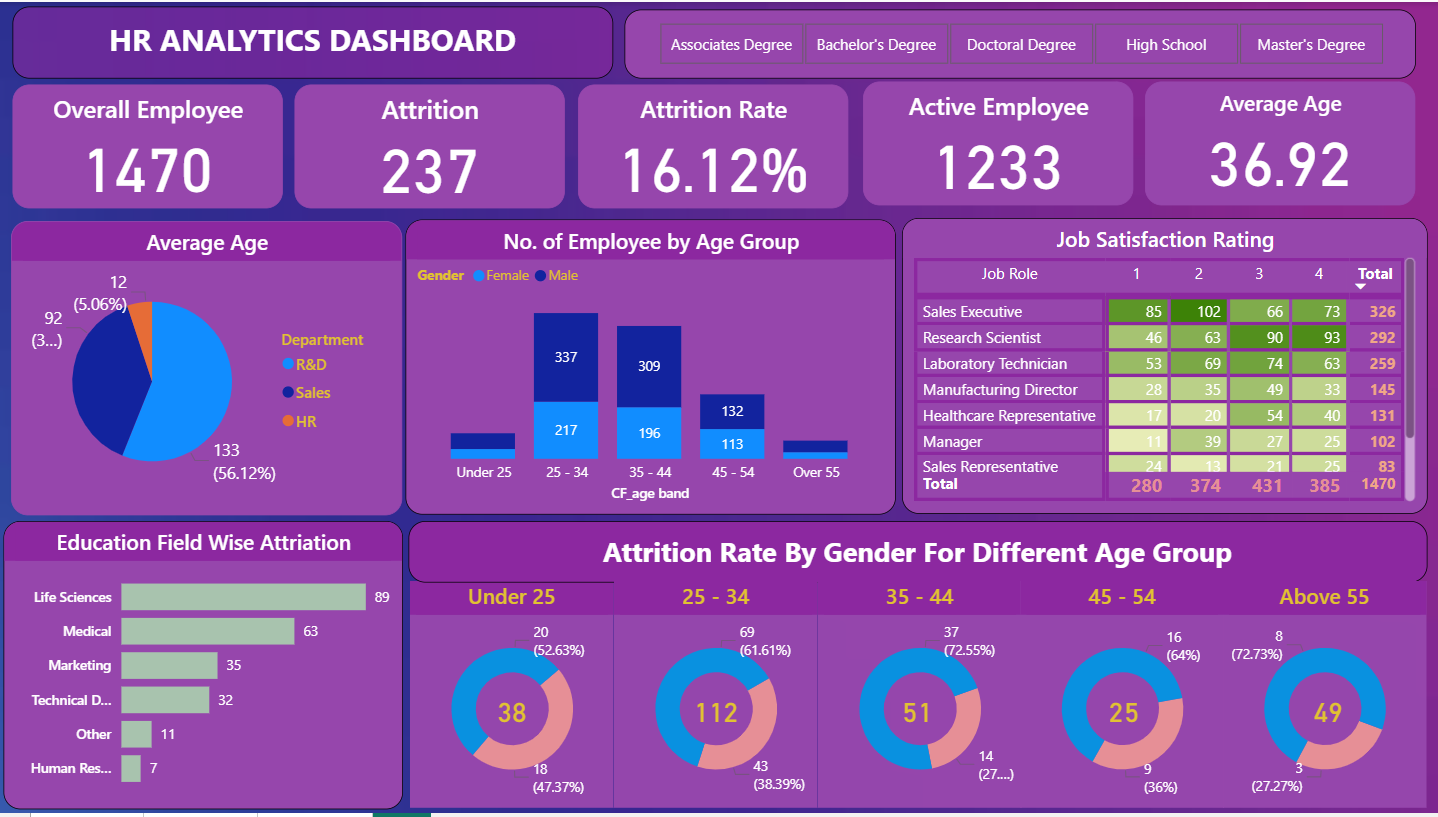

This screenshot's page, from the dashboard's own definition file:
{"tool":"powerbi","page":{"name":"Page 1","canvas":[1280,720],"ordinal":0},"visuals":[{"type":"card","title":"Overall Employee","fields":{"Values":["CountNonNull(Table_1.Employee Count)"]},"box":[11.8,73.5,239.7,110.3],"z":0},{"type":"card","title":"Attrition","fields":{"Values":["Sum(Data.Attition Count)"]},"box":[261.8,73.5,239.7,110.3],"z":1000},{"type":"card","title":"Attrition Rate","fields":{"Values":["Data.Attrition Rate"]},"box":[514.7,73.5,239.7,110.3],"z":2000},{"type":"card","title":"Average Age","fields":{"Values":["Avg(Data.Age)"]},"box":[1017.6,70.6,239.7,110.3],"z":3000},{"type":"card","title":"Active Employee","fields":{"Values":["Data.Active Employee"]},"box":[767.6,70.6,239.7,110.3],"z":4000},{"type":"pieChart","title":"Average Age","fields":{"Category":["Data.Department"],"Y":["Sum(Data.Attition Count)"]},"box":[11.1,194.4,347.2,261.1],"z":5000},{"type":"columnChart","title":"No. of Employee by Age Group","fields":{"Category":["Data.CF_age band"],"Y":["Sum(Data.Employee Count)"],"Series":["Data.Gender"]},"box":[360.8,193.1,435.3,261.8],"z":6000},{"type":"pivotTable","title":"Job Satisfaction Rating","fields":{"Rows":["Data.Job Role"],"Columns":["Data.Job Satisfaction"],"Values":["Sum(Data.Employee Count)"]},"box":[801.4,191.7,466.7,262.5],"z":7000},{"type":"barChart","title":" Education Field Wise Attriation","fields":{"Category":["Data.Education Field"],"Y":["Sum(Data.Attition Count)"]},"box":[4.4,460.3,354.4,255.9],"z":8000},{"type":"donutChart","title":"Under 25","fields":{"Category":["Data.Gender"],"Y":["Sum(Data.Attition Count)"],"Series":["Data.CF_age band"]},"box":[364.7,514.7,180.9,201.5],"z":9000},{"type":"textbox","box":[363.2,460.3,904.4,54.4],"z":10000},{"type":"donutChart","title":"25 - 34","fields":{"Category":["Data.Gender"],"Y":["Sum(Data.Attition Count)"],"Series":["Data.CF_age band"]},"box":[545.6,514.7,180.9,201.5],"z":11000},{"type":"donutChart","title":"35 - 44","fields":{"Category":["Data.Gender"],"Y":["Sum(Data.Attition Count)"],"Series":["Data.CF_age band"]},"box":[726.5,514.7,180.9,201.5],"z":12000},{"type":"donutChart","title":"45 - 54","fields":{"Category":["Data.Gender"],"Y":["Sum(Data.Attition Count)"],"Series":["Data.CF_age band"]},"box":[906.5,514.3,180.5,201.3],"z":13000},{"type":"donutChart","title":"Above 55","fields":{"Category":["Data.Gender"],"Y":["Sum(Data.Attition Count)"],"Series":["Data.CF_age band"]},"box":[1087,514.3,180.5,201.3],"z":14000},{"type":"card","fields":{"Values":["Sum(Data.Attition Count)"]},"box":[430,607,50,44],"z":15000},{"type":"card","fields":{"Values":["Sum(Data.Attition Count)"]},"box":[611,607,50,44],"z":16000},{"type":"card","fields":{"Values":["Sum(Data.Attition Count)"]},"box":[790,607,50,44],"z":17000},{"type":"card","fields":{"Values":["Sum(Data.Attition Count)"]},"box":[973,607,50,44],"z":18000},{"type":"card","fields":{"Values":["Sum(Data.Attition Count)"]},"box":[1154,607,50,44],"z":19000},{"type":"textbox","box":[12.5,4.2,533.3,63.9],"z":20000},{"type":"slicer","fields":{"Values":["Data.Education"]},"box":[555.6,6.9,702.8,61.1],"z":21000}]}

Visuals, with their boxes in screenshot pixels (x1, y1, x2, y2), scaled from the page's 1280x720 canvas onto the 1438x817 screenshot:
"Overall Employee" card: [left=13, top=83, right=283, bottom=209]
"Attrition" card: [left=294, top=83, right=563, bottom=209]
"Attrition Rate" card: [left=578, top=83, right=848, bottom=209]
"Average Age" card: [left=1143, top=80, right=1412, bottom=205]
"Active Employee" card: [left=862, top=80, right=1132, bottom=205]
"Average Age" pieChart: [left=12, top=221, right=403, bottom=517]
"No. of Employee by Age Group" columnChart: [left=405, top=219, right=894, bottom=516]
"Job Satisfaction Rating" pivotTable: [left=900, top=218, right=1425, bottom=515]
" Education Field Wise Attriation" barChart: [left=5, top=522, right=403, bottom=813]
"Under 25" donutChart: [left=410, top=584, right=613, bottom=813]
textbox: [left=408, top=522, right=1424, bottom=584]
"25 - 34" donutChart: [left=613, top=584, right=816, bottom=813]
"35 - 44" donutChart: [left=816, top=584, right=1019, bottom=813]
"45 - 54" donutChart: [left=1018, top=584, right=1221, bottom=812]
"Above 55" donutChart: [left=1221, top=584, right=1424, bottom=812]
card - Sum(Data.Attition Count): [left=483, top=689, right=539, bottom=739]
card - Sum(Data.Attition Count): [left=686, top=689, right=743, bottom=739]
card - Sum(Data.Attition Count): [left=888, top=689, right=944, bottom=739]
card - Sum(Data.Attition Count): [left=1093, top=689, right=1149, bottom=739]
card - Sum(Data.Attition Count): [left=1296, top=689, right=1353, bottom=739]
textbox: [left=14, top=5, right=613, bottom=77]
slicer - Data.Education: [left=624, top=8, right=1414, bottom=77]
